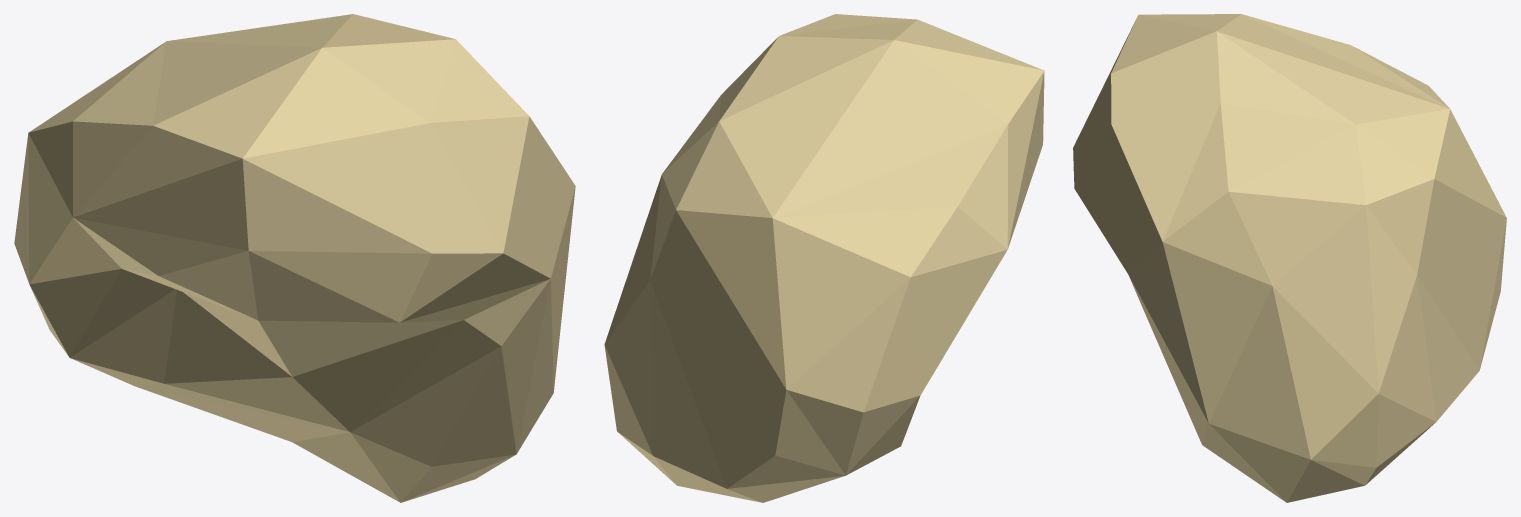
Rendered from Rock (59).fbx.
The picture shows the model from 3 angles, left to right: view 1: azimuth 30°, elevation 25°; view 2: azimuth 150°, elevation 25°; view 3: azimuth 270°, elevation 25°; orthographic projection. The views are drawn at different scales.
Parts seen in each view (by area): view 1: Asteroid58; view 2: Asteroid58; view 3: Asteroid58.
Part boxes in pixels (x1=…): Asteroid58: x1=14, y1=14, x2=575, y2=502; Asteroid58: x1=604, y1=14, x2=1044, y2=502; Asteroid58: x1=1073, y1=14, x2=1506, y2=502.
Bounding box in the file's own units: 147 × 156 × 155.
